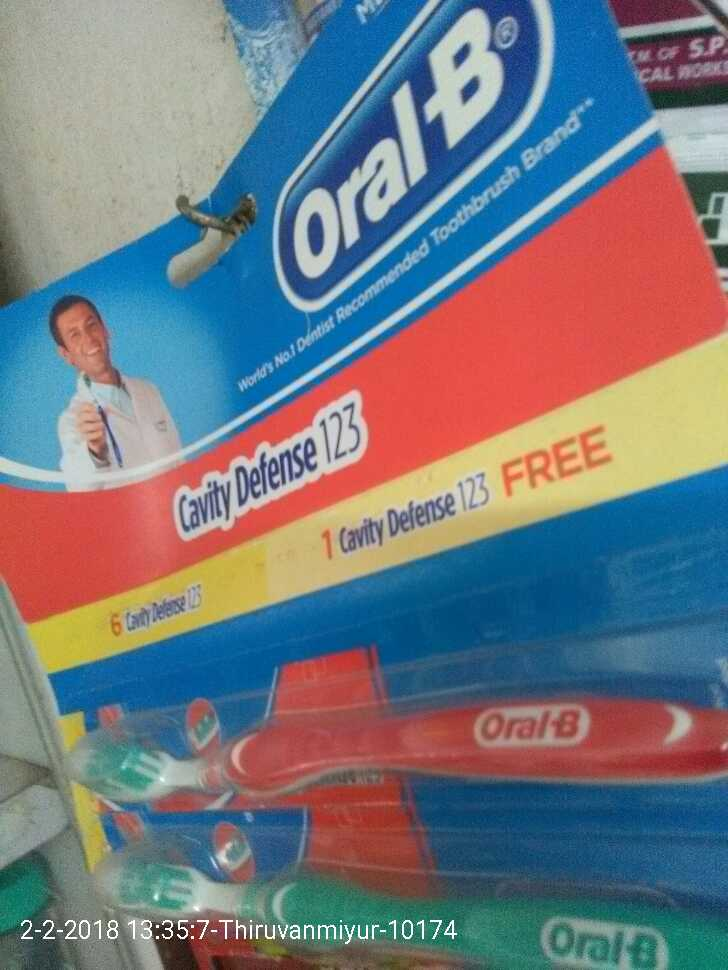oralb: (30, 687, 728, 816), (65, 846, 724, 970)
